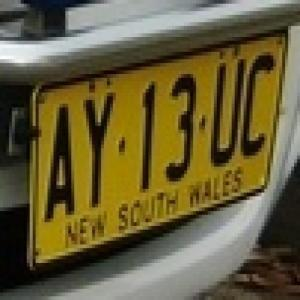Plate: (21, 22, 300, 278)
